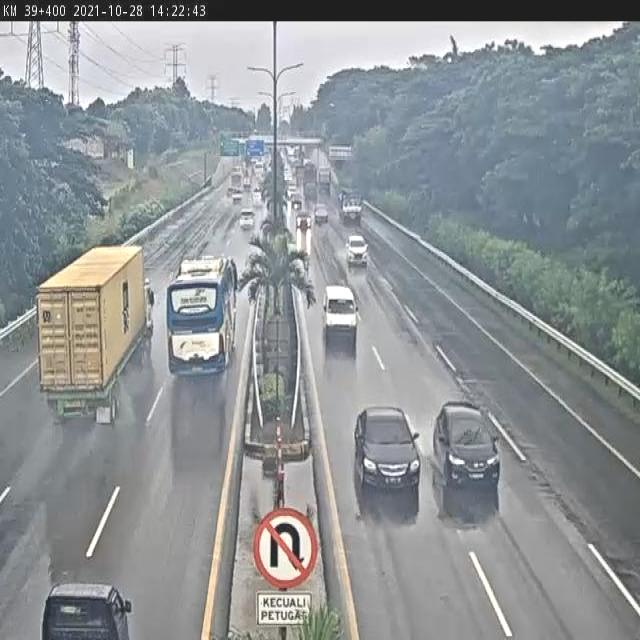Bus: (166, 255, 240, 377), (232, 165, 242, 184)
Car: (432, 403, 502, 505), (353, 405, 420, 511), (345, 234, 369, 267), (239, 208, 255, 230), (314, 204, 329, 224), (296, 210, 311, 230), (282, 164, 292, 191), (290, 191, 302, 210), (243, 175, 250, 189), (226, 185, 234, 196)
Truck: (36, 244, 150, 424), (339, 190, 363, 224), (318, 167, 332, 191), (251, 189, 262, 207)
Van: (322, 285, 358, 350)
